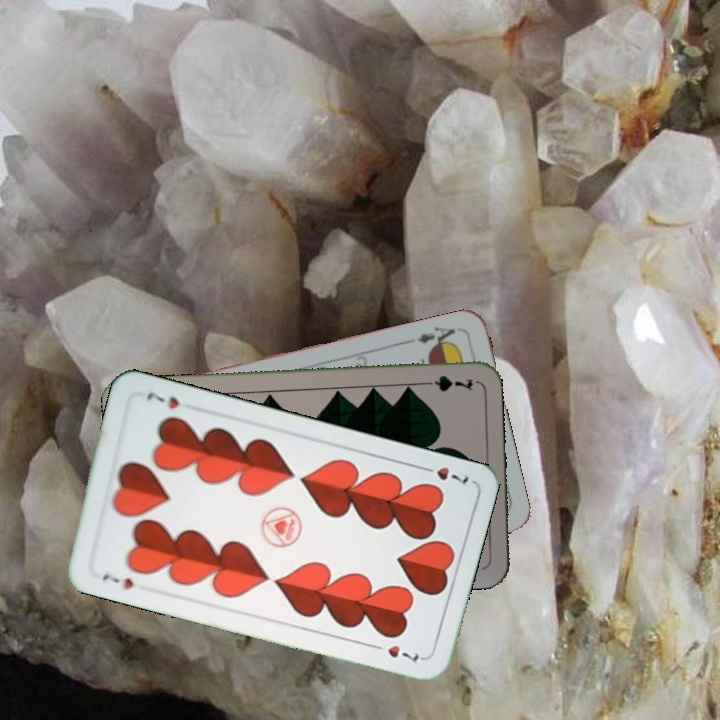EA: (413, 322, 458, 352)
G7: (416, 372, 475, 394)
H7: (415, 461, 472, 487), (98, 569, 137, 592)
